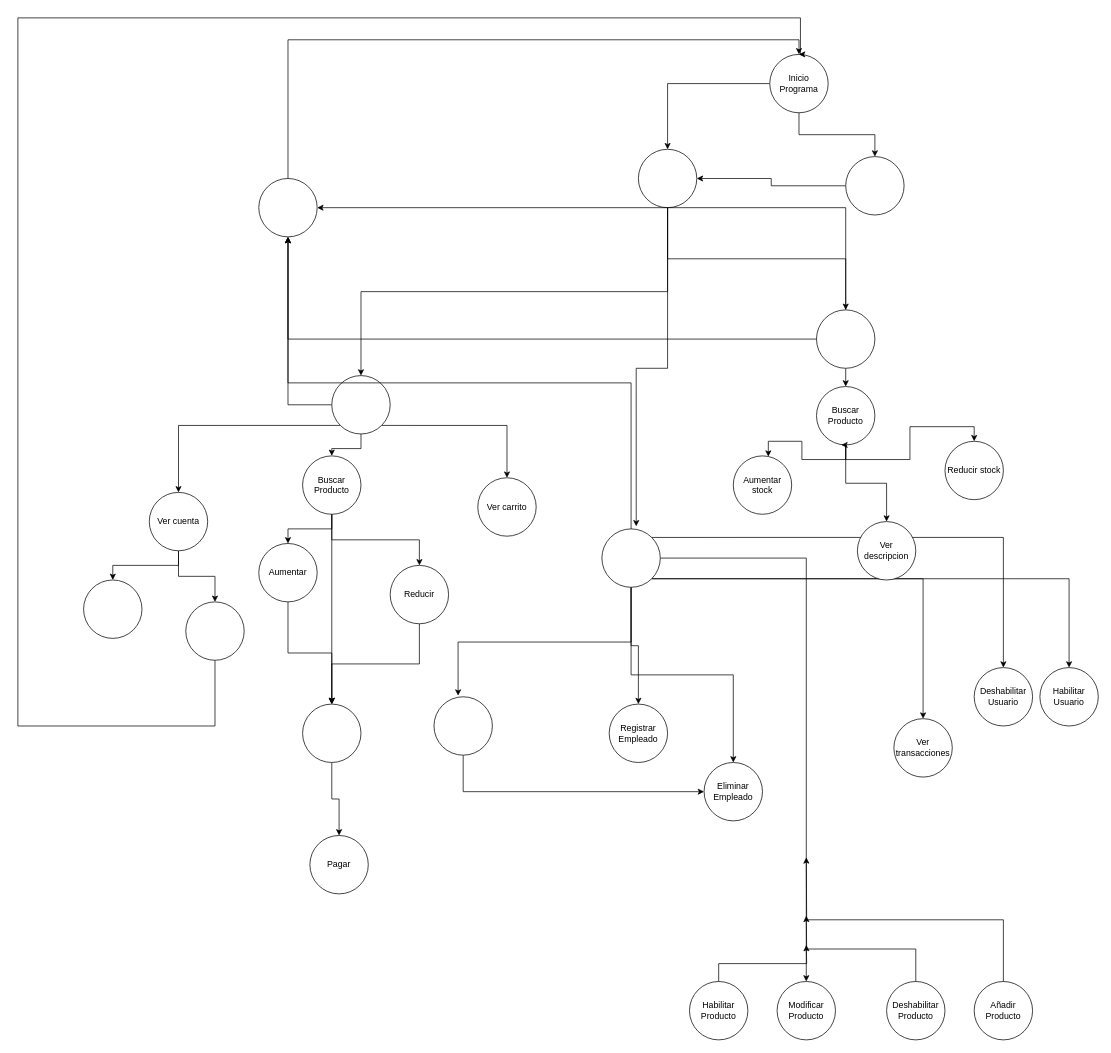
Some shapes in this 1111 by 1053 pixel diagram are drawn without their labels. The shapes that lost their labels are listed below. From the top down, each one's centre as x and y in pixels, then its label:
At point (667, 178): "Iniciar sesion".
At point (874, 185): "Registrarse".
At point (287, 207): "Cerrar sesion".
At point (845, 338): "Empleado".
At point (360, 404): "Comprador".
At point (630, 557): "Administrador".
At point (112, 608): "Modificar Datos".
At point (214, 630): "Eliminar cuenta".
At point (331, 732): "Añadir al carrito".
At point (462, 725): "Buscar Empleado".
